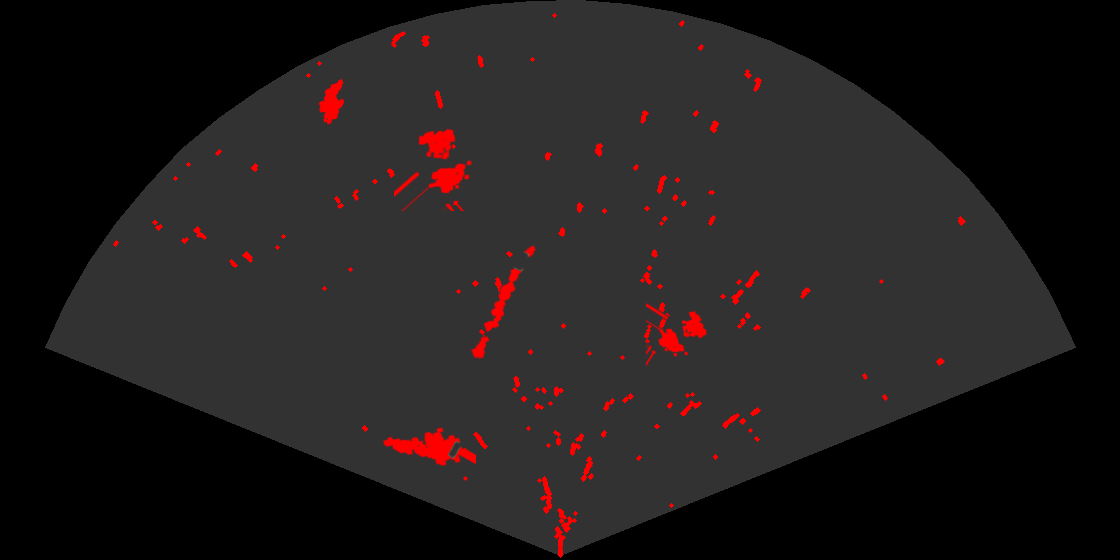AUV: (317, 77, 346, 126)
cage: (394, 127, 473, 211), (646, 301, 708, 368)
chain: (469, 244, 537, 361)
frogman: (381, 426, 476, 468)
